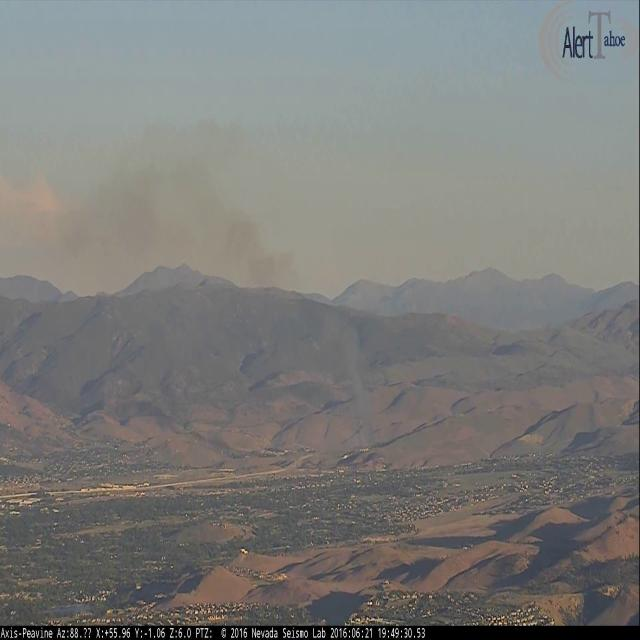smoke: (34, 120, 376, 458)
